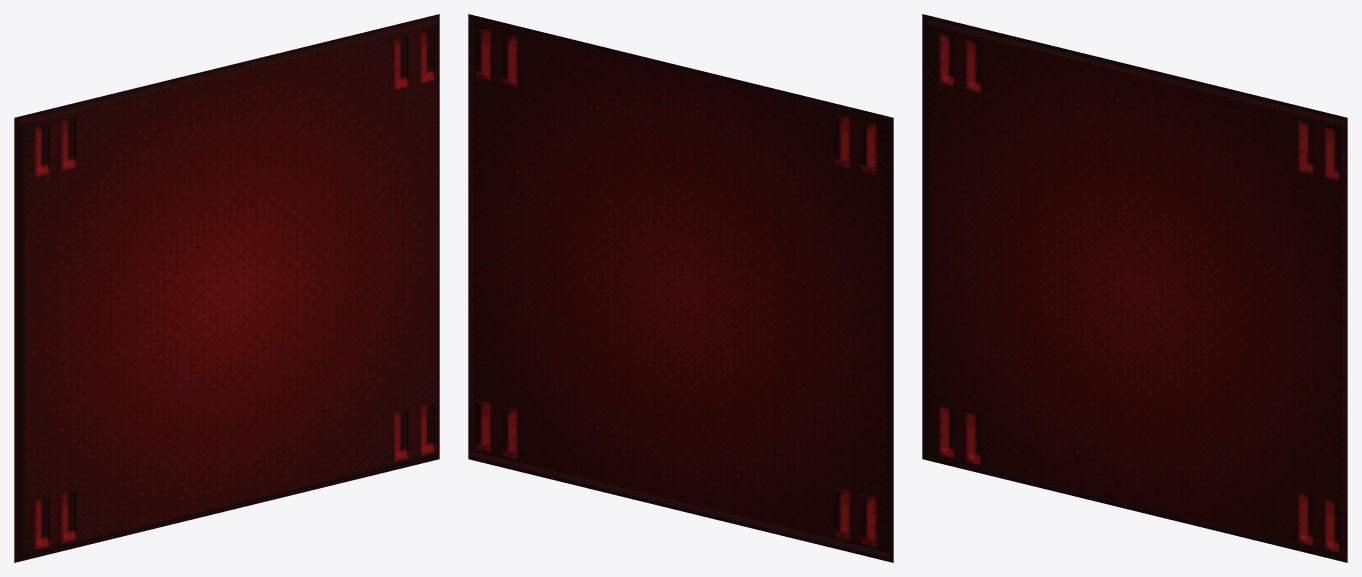
Rendered from sci1_6.fbx.
3 views of the same model, side by side, from view 1: azimuth 30°, elevation 25°; view 2: azimuth 150°, elevation 25°; view 3: azimuth 330°, elevation 25° (orthographic).
Visible parts, largest first — view 1: sci1_6_mesh; view 2: sci1_6_mesh; view 3: sci1_6_mesh.
Part boxes in pixels (x1=…): sci1_6_mesh: x1=14, y1=14, x2=439, y2=562; sci1_6_mesh: x1=468, y1=14, x2=893, y2=562; sci1_6_mesh: x1=922, y1=14, x2=1347, y2=562.
Bounding box in the file's own units: 256 × 256 × 2.
